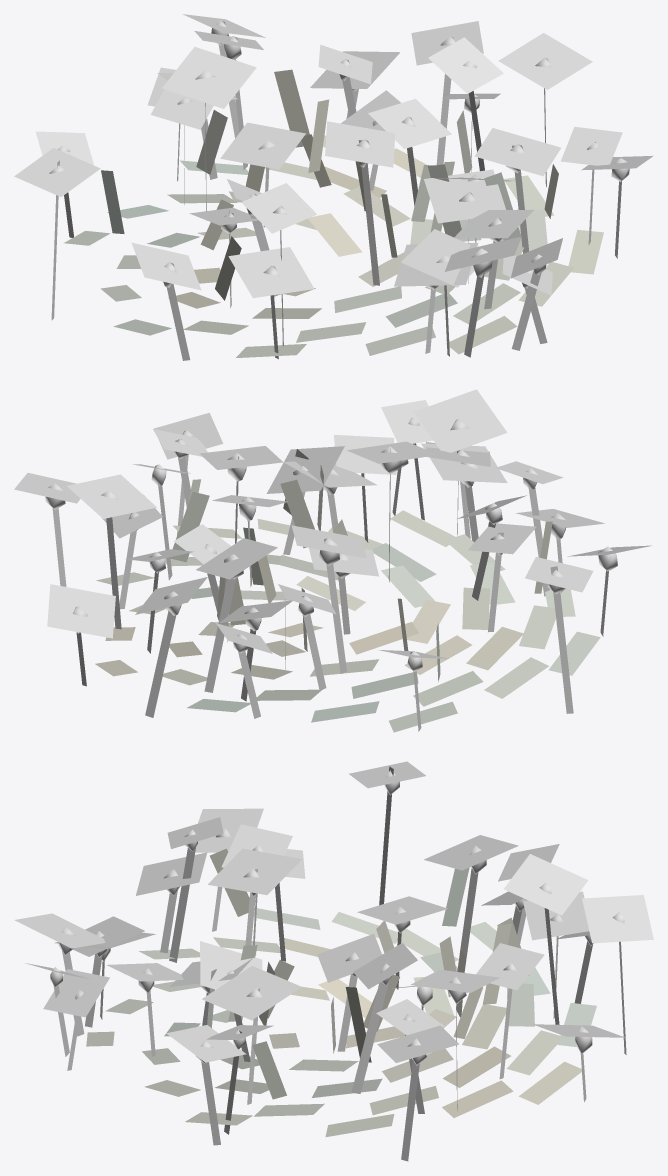
The model's file is flower_patch_lods.glb.
3 views of the same model, one above another, from view 1: azimuth 30°, elevation 25°; view 2: azimuth 150°, elevation 25°; view 3: azimuth 270°, elevation 25° (orthographic). The views are drawn at different scales.
Visible parts, largest first — view 1: flower_patch_far; view 2: flower_patch_far; view 3: flower_patch_far.
Boxes of the visible parts, x1,y1,x2,y2 form: flower_patch_far: [14, 14, 653, 360]; flower_patch_far: [14, 389, 651, 732]; flower_patch_far: [14, 761, 653, 1161].
Size of what is drawn, in the model's own units: 1.59 by 0.4536 by 1.53.
